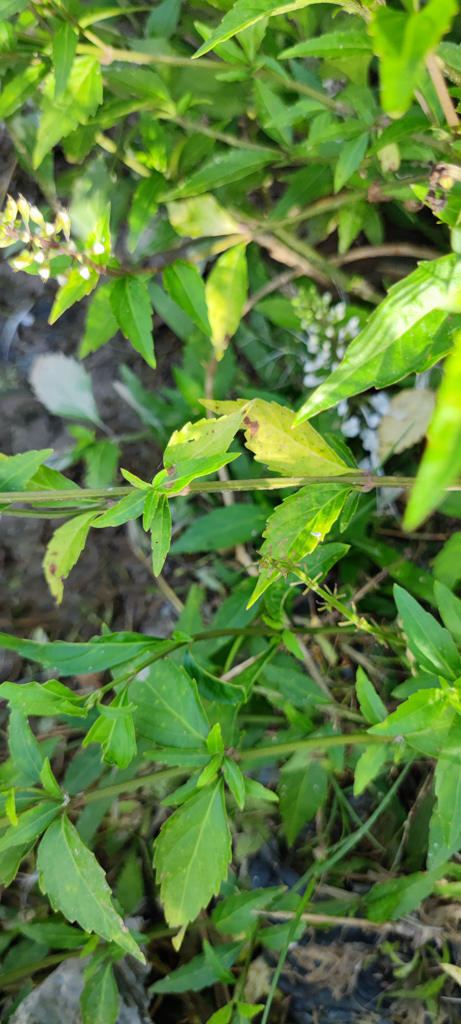Pepper yellow leaf: (203, 388, 370, 481), (154, 393, 254, 486), (204, 244, 251, 361), (42, 511, 97, 605)
